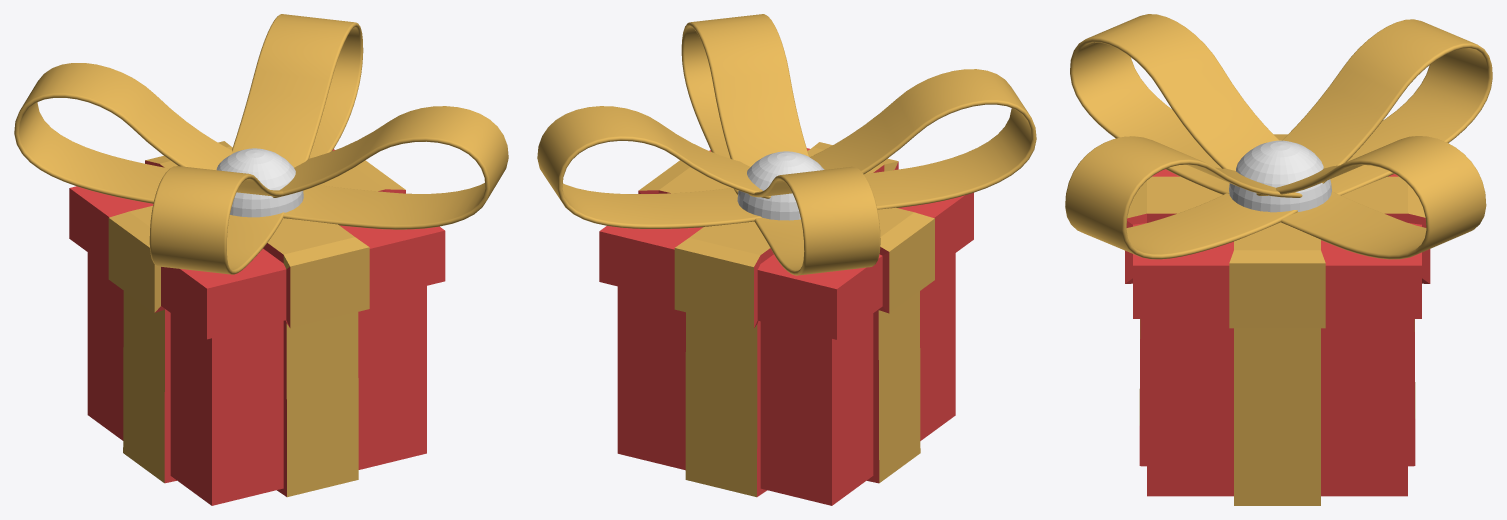
Rendered from present.fbx.
3 renders of one model, left to right at view 1: azimuth 30°, elevation 25°; view 2: azimuth 150°, elevation 25°; view 3: azimuth 270°, elevation 25°, orthographic. The views are drawn at different scales.
Visible parts, largest first — view 1: Cube, BézierCircle, BézierCircle.002, BézierCircle.003, BézierCircle.001, Sphere; view 2: Cube, BézierCircle.001, BézierCircle.002, BézierCircle.003, BézierCircle, Sphere; view 3: Cube, BézierCircle.001, BézierCircle, BézierCircle.002, BézierCircle.003, Sphere.
Part boxes in pixels (bbox=[...]): Cube: bbox=[69, 141, 445, 505]; BézierCircle: bbox=[14, 63, 232, 203]; BézierCircle.002: bbox=[272, 106, 508, 229]; BézierCircle.003: bbox=[232, 14, 363, 167]; BézierCircle.001: bbox=[149, 166, 284, 274]; Sphere: bbox=[216, 148, 303, 217]; Cube: bbox=[599, 142, 973, 505]; BézierCircle.001: bbox=[810, 69, 1036, 209]; BézierCircle.002: bbox=[681, 14, 809, 194]; BézierCircle.003: bbox=[537, 106, 770, 228]; BézierCircle: bbox=[749, 166, 880, 275]; Sphere: bbox=[737, 151, 824, 220]; Cube: bbox=[1125, 134, 1430, 505]; BézierCircle.001: bbox=[1070, 14, 1279, 194]; BézierCircle: bbox=[1282, 19, 1492, 195]; BézierCircle.002: bbox=[1065, 136, 1302, 259]; BézierCircle.003: bbox=[1256, 136, 1486, 259]; Sphere: bbox=[1229, 140, 1331, 212].
Bounding box in the file's own units: 332 × 303 × 328.
